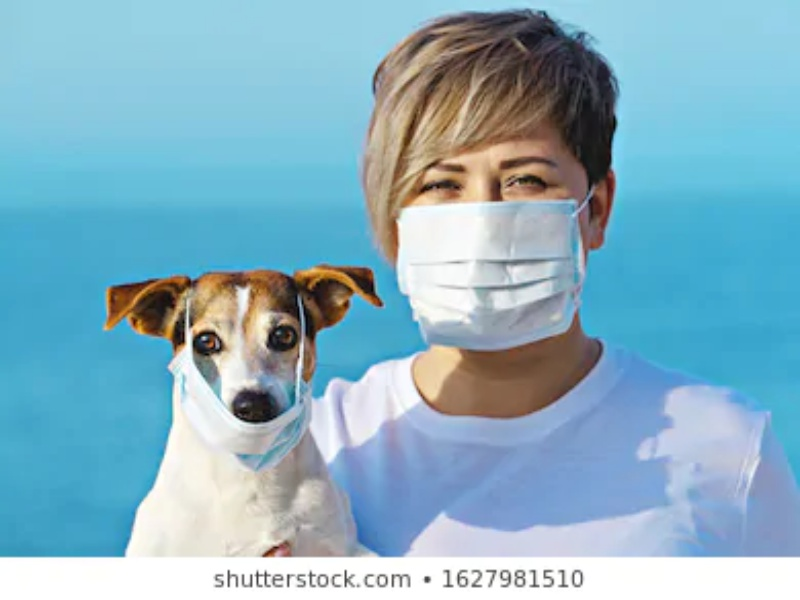ManaoArotava: (362, 24, 630, 371)
